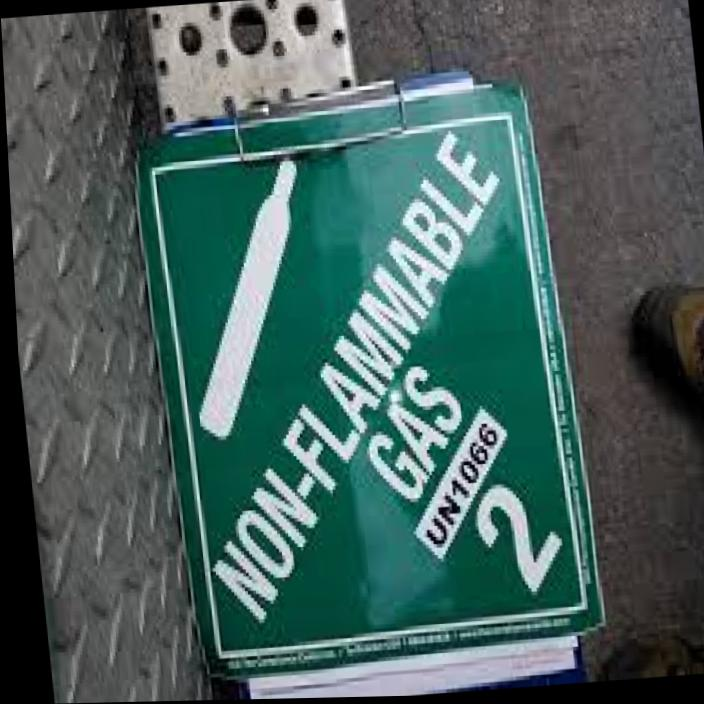building map: (137, 73, 602, 699)
